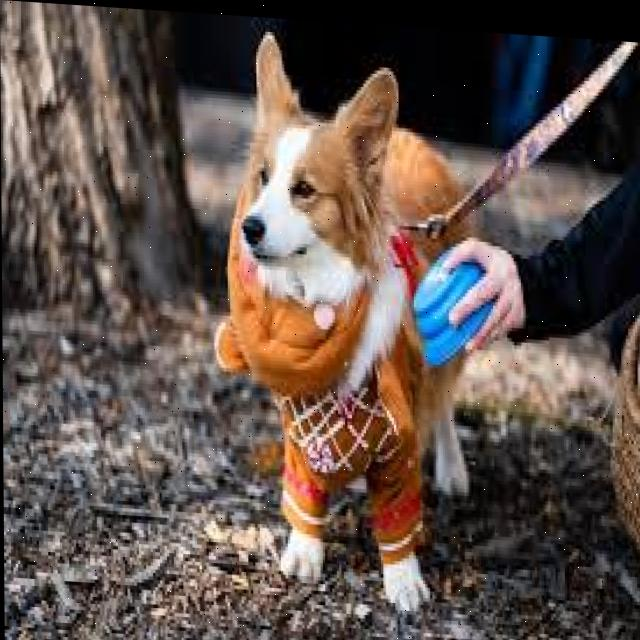CORGI: (211, 33, 498, 603)
